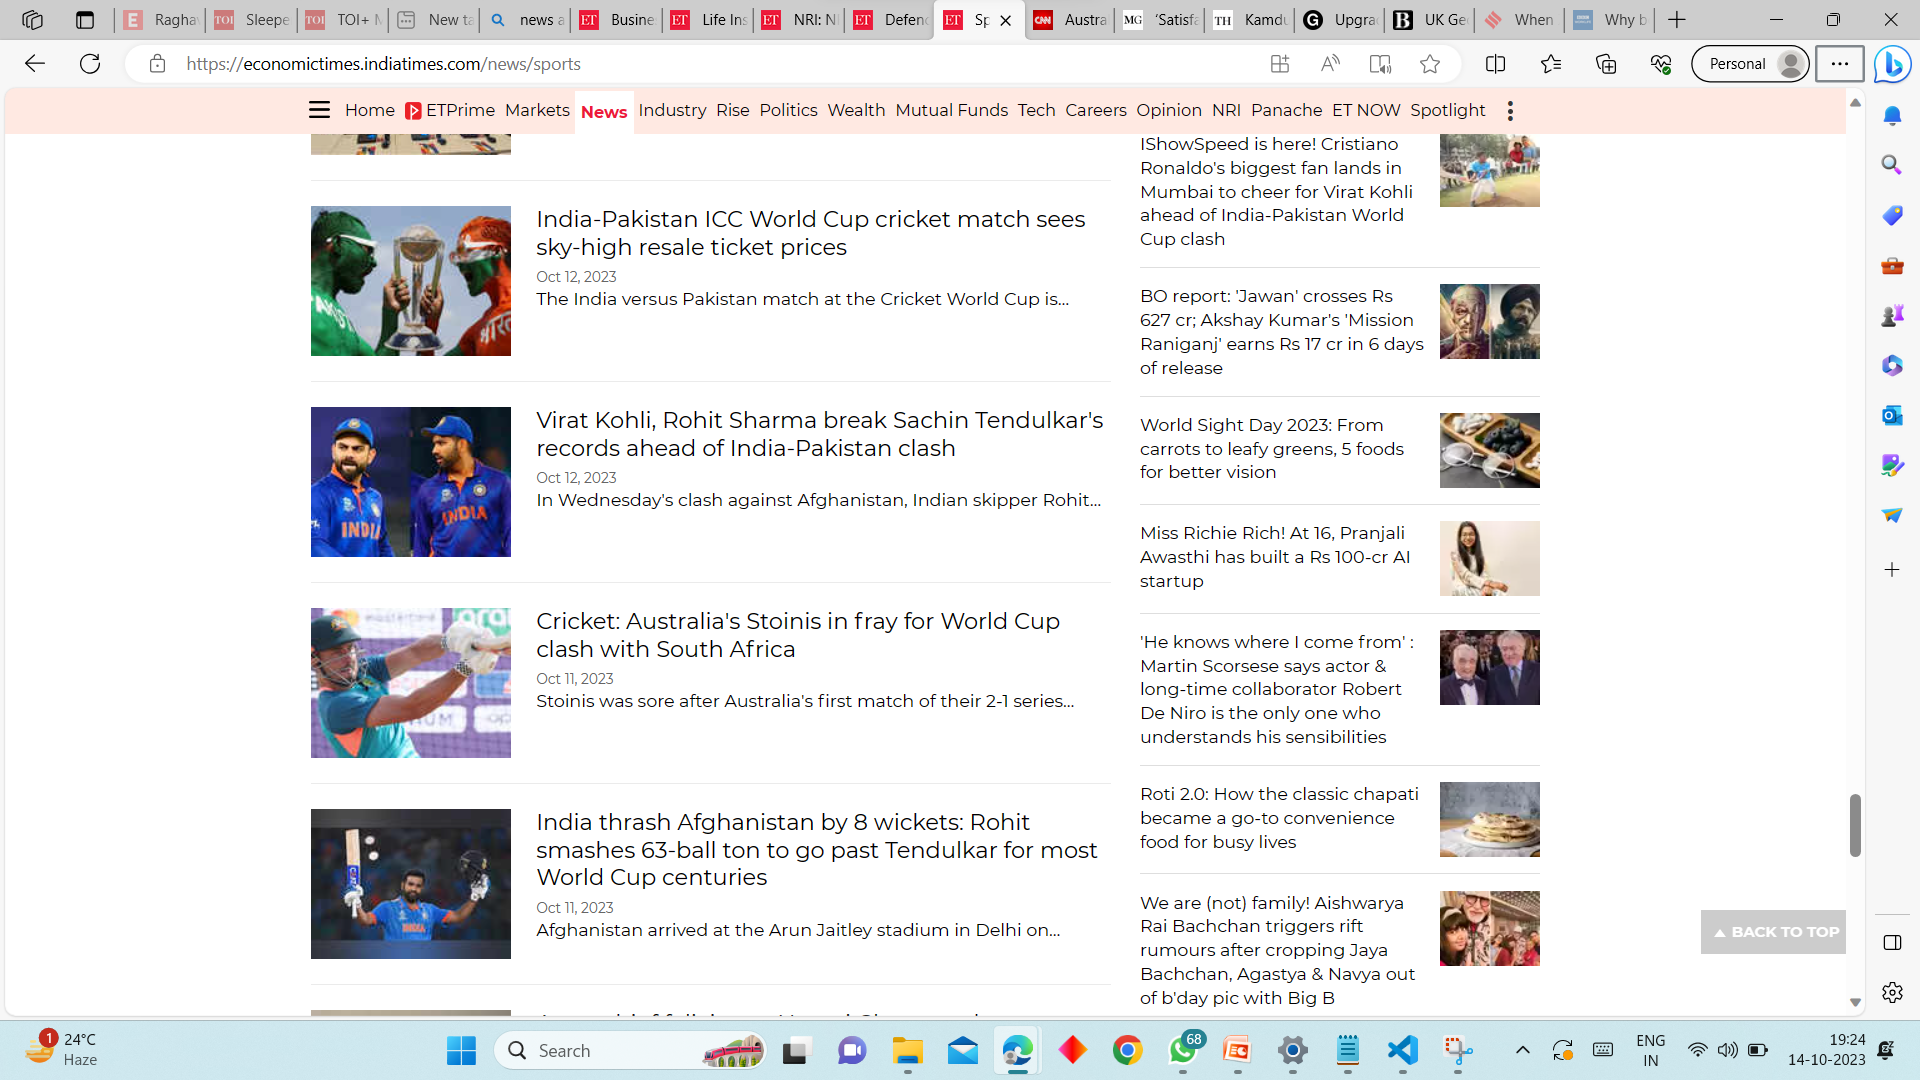Image: (306, 203, 512, 364), (306, 807, 514, 959), (313, 402, 508, 559), (315, 608, 512, 756), (1431, 628, 1543, 700), (1433, 781, 1536, 858), (1437, 136, 1545, 208), (1444, 887, 1540, 964), (1443, 521, 1543, 592), (1437, 415, 1539, 485), (1447, 286, 1545, 357)
Paragraph: (527, 804, 1098, 916), (524, 181, 1091, 280), (525, 392, 1118, 485), (525, 604, 1067, 684), (1127, 135, 1422, 261), (1131, 887, 1420, 1006), (1142, 633, 1420, 752), (1121, 280, 1437, 380), (1134, 396, 1411, 495), (1125, 775, 1431, 861), (1129, 517, 1411, 601), (530, 688, 1087, 731), (530, 284, 1073, 315), (525, 923, 1054, 955), (533, 496, 1098, 512)
